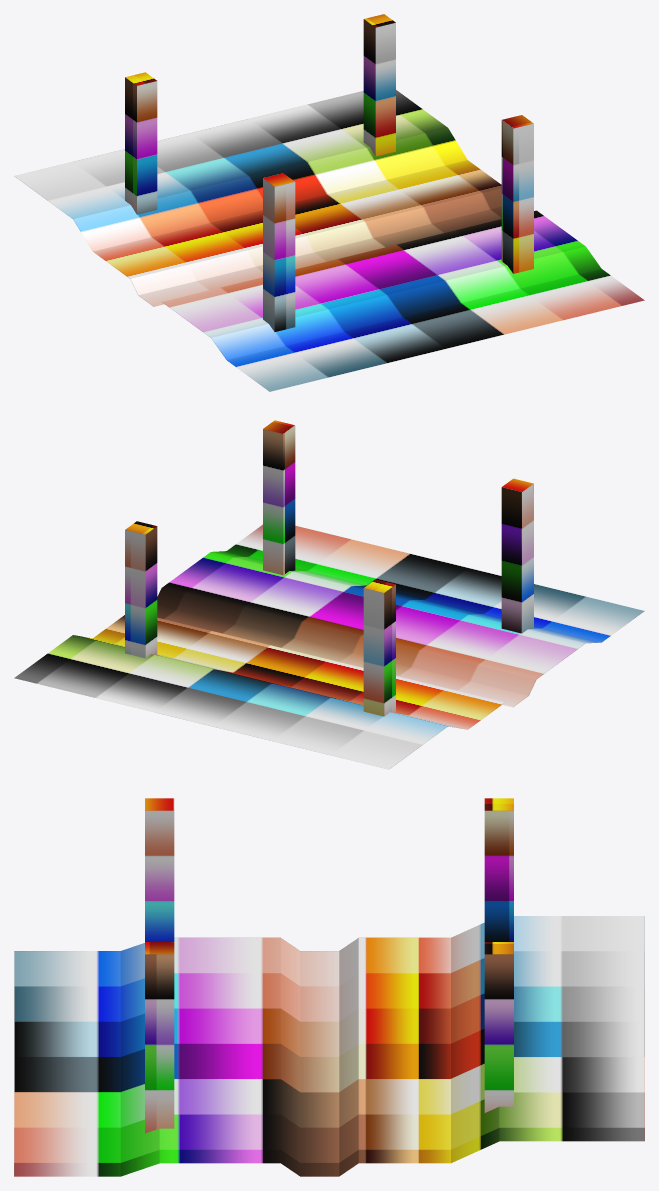
3 views of the same model, one above another, from view 1: azimuth 30°, elevation 25°; view 2: azimuth 150°, elevation 25°; view 3: azimuth 270°, elevation 25° (orthographic). The views are drawn at different scales.
Parts seen in each view (by area): view 1: Plane, Cube, Cube.001, Cube.003, Cube.002; view 2: Plane, Cube.001, Cube, Cube.002, Cube.003; view 3: Plane, Cube.001, Cube.002, Cube, Cube.003.
Part boxes in pixels (bbox=[...]): Plane: bbox=[14, 90, 644, 391]; Cube: bbox=[263, 173, 295, 331]; Cube.001: bbox=[501, 115, 533, 273]; Cube.003: bbox=[125, 72, 157, 214]; Cube.002: bbox=[363, 14, 395, 156]; Plane: bbox=[14, 524, 644, 769]; Cube.001: bbox=[263, 420, 295, 575]; Cube: bbox=[501, 478, 533, 633]; Cube.002: bbox=[125, 521, 157, 658]; Cube.003: bbox=[363, 579, 395, 716]; Plane: bbox=[14, 916, 644, 1176]; Cube.001: bbox=[145, 942, 174, 1133]; Cube.002: bbox=[484, 942, 513, 1112]; Cube: bbox=[145, 798, 174, 941]; Cube.003: bbox=[484, 798, 513, 941].
Bounding box in the file's own units: 110 × 42.64 × 130.
Materials: 1 (1 with a texture image).
